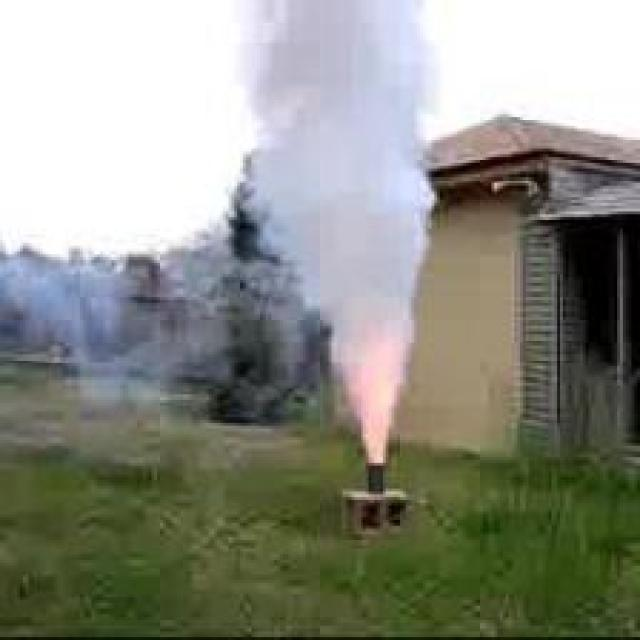Smoke: (252, 6, 443, 462)
